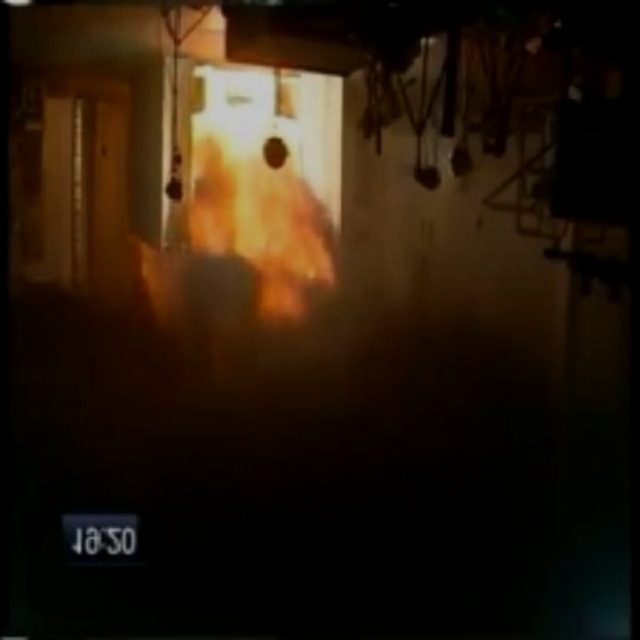fire: (140, 98, 347, 348)
